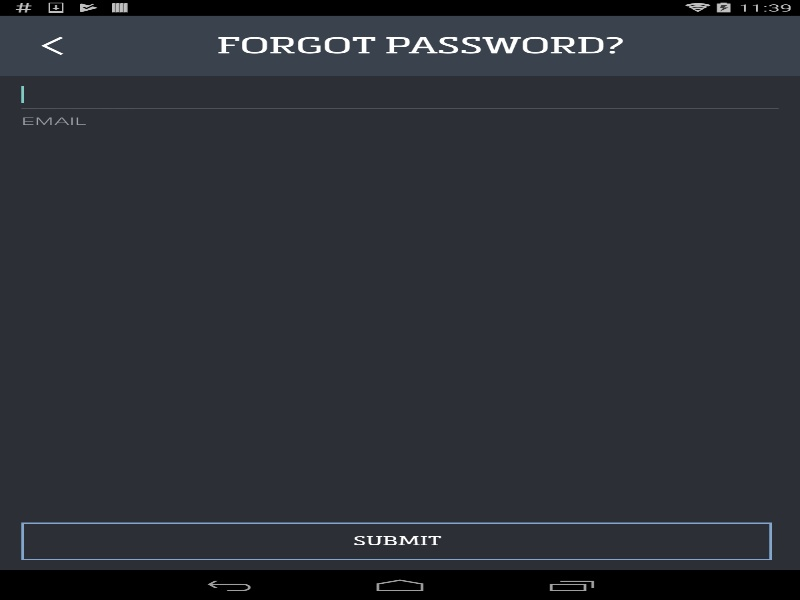Input: (21, 86, 778, 103)
